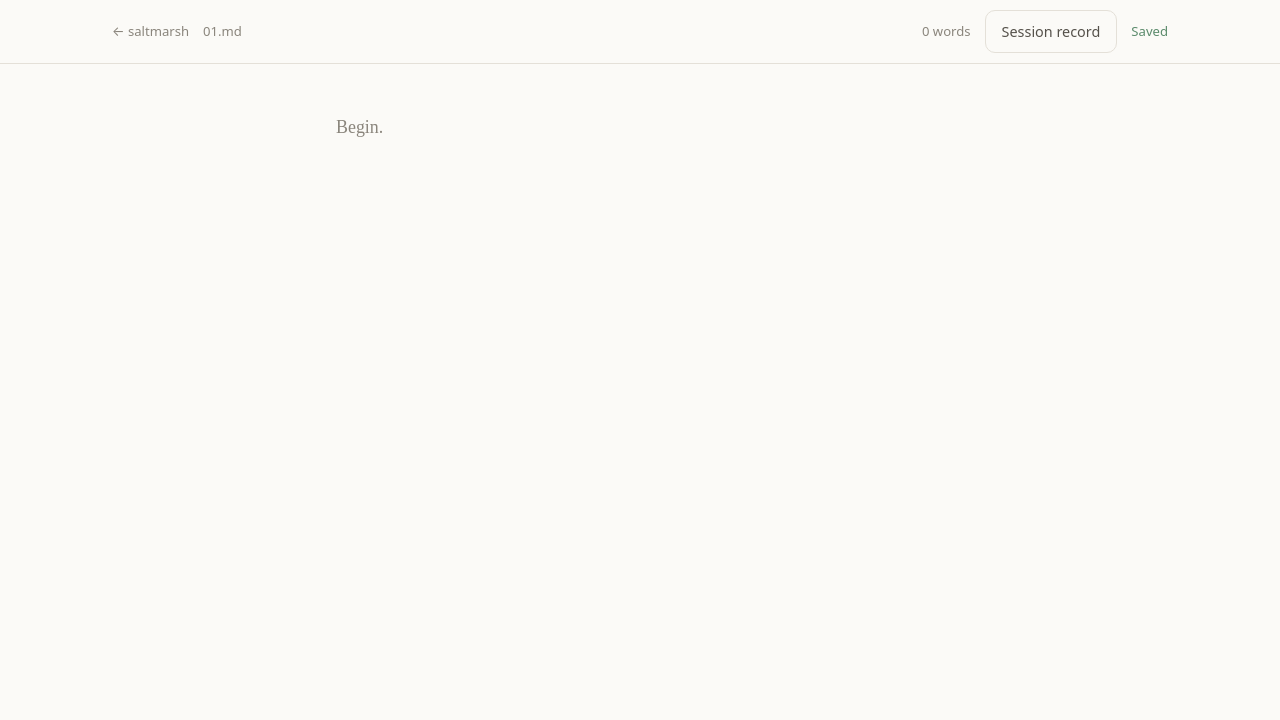
saving › says so plainly when the API is unreachable, and keeps the text
This screenshot has width=1280, height=720.
Type "Unsaved words." into the text box at [640, 368], box [336, 112, 944, 624]
Wait 3000 ms
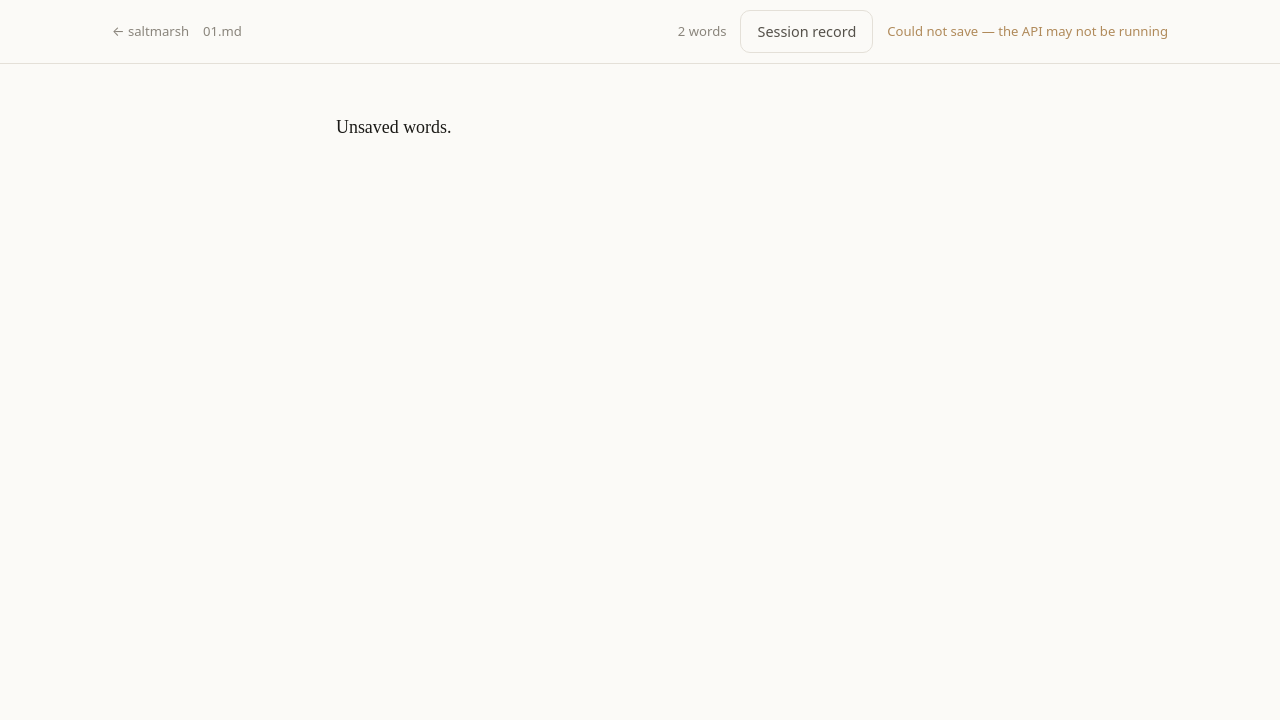
expect the text "Could not save — the API may not be running" is shown: met, box [887, 21, 1168, 42]
